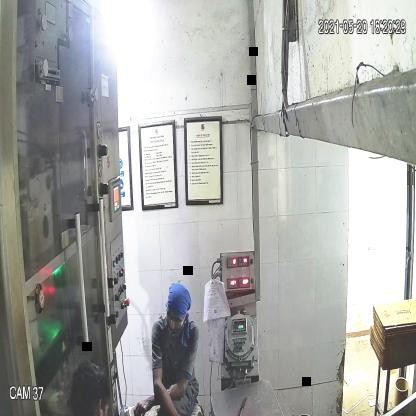goggles: (163, 304, 188, 329)
